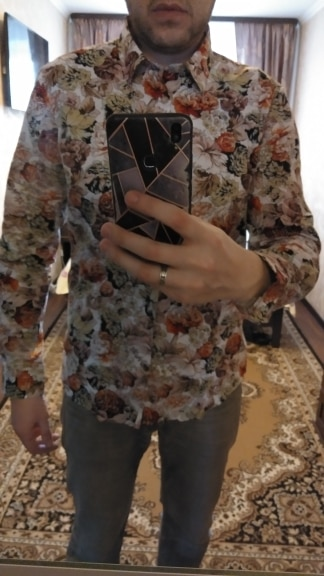shirts: (13, 42, 316, 431)
